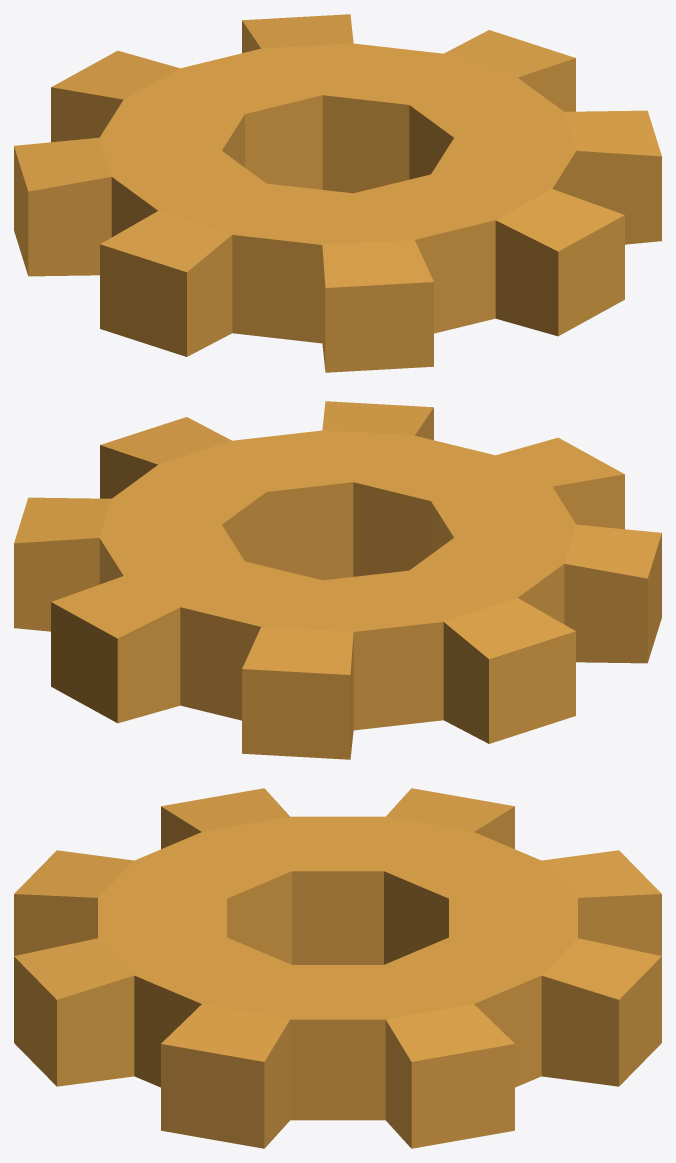
The model's file is gear-wheel.fbx.
3 views of the same model, one above another, from view 1: azimuth 30°, elevation 25°; view 2: azimuth 150°, elevation 25°; view 3: azimuth 270°, elevation 25° (orthographic). The views are drawn at different scales.
Visible parts, largest first — view 1: gear-wheel; view 2: gear-wheel; view 3: gear-wheel.
Boxes of the visible parts, x1,y1,x2,y2 form: gear-wheel: (14, 14, 661, 372); gear-wheel: (14, 401, 661, 759); gear-wheel: (14, 788, 661, 1148).
Bounding box in the file's own units: 0.3878 × 0.0666 × 0.3878.
